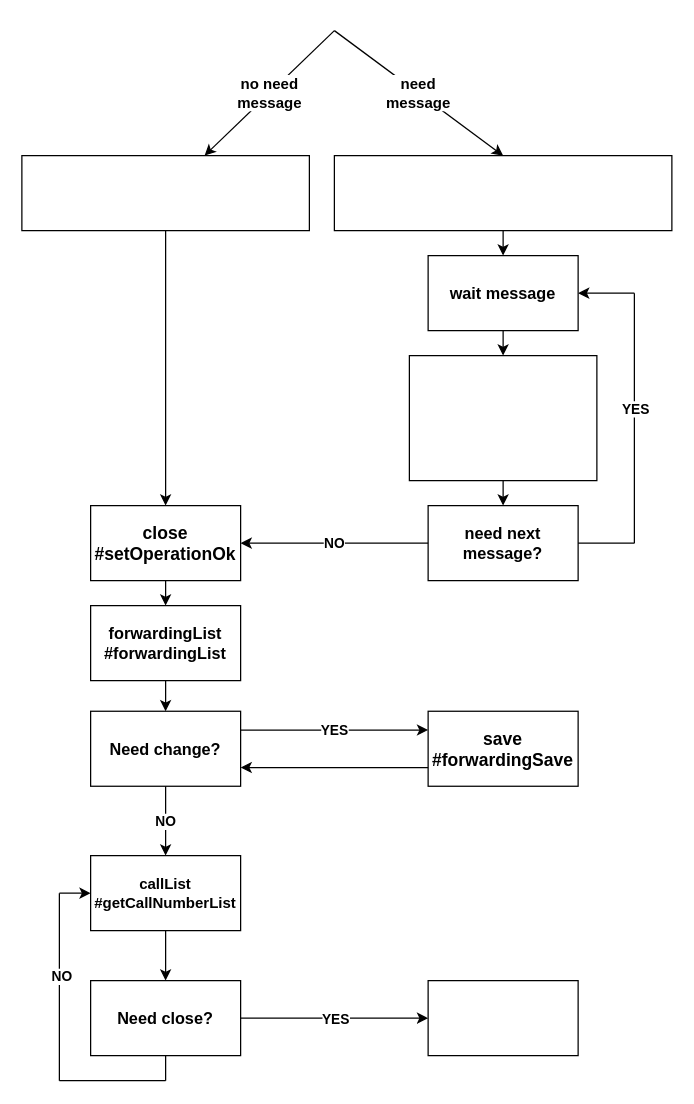
Image size: 694x1104. Some labels were removed from this diagram. The shapes that lost their labels are listed below. From the top down, each one's centre as x and y in pixels, then its label:
At point (165, 192): "get + forward_without_sms #getForward".
At point (502, 192): "get #getForward".
At point (502, 417): "state #getState + next (#setOperationRevise)".
At point (502, 1017): "remove #forwardingRemove".
